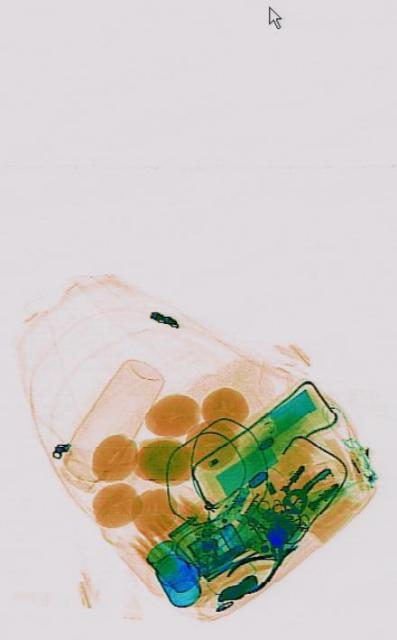Pliers: (222, 524, 301, 604)
